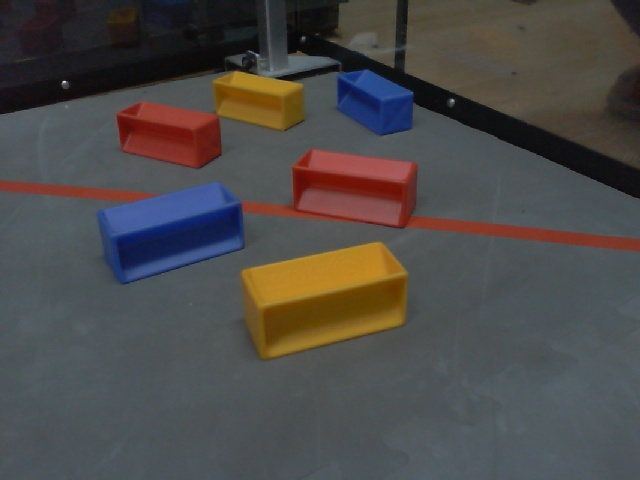BlueSample: (95, 181, 248, 287), (335, 69, 415, 138)
RedSample: (286, 148, 426, 231), (117, 99, 225, 170)
YellowSample: (233, 239, 414, 359), (206, 65, 309, 134)
